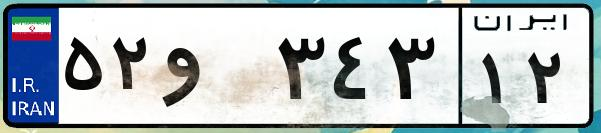1: (475, 38, 525, 113)
2: (525, 38, 570, 115), (110, 28, 158, 98)
3: (270, 28, 330, 110), (385, 28, 445, 110)
4: (330, 28, 385, 110)
5: (57, 26, 110, 100)
و: (158, 20, 270, 120)
